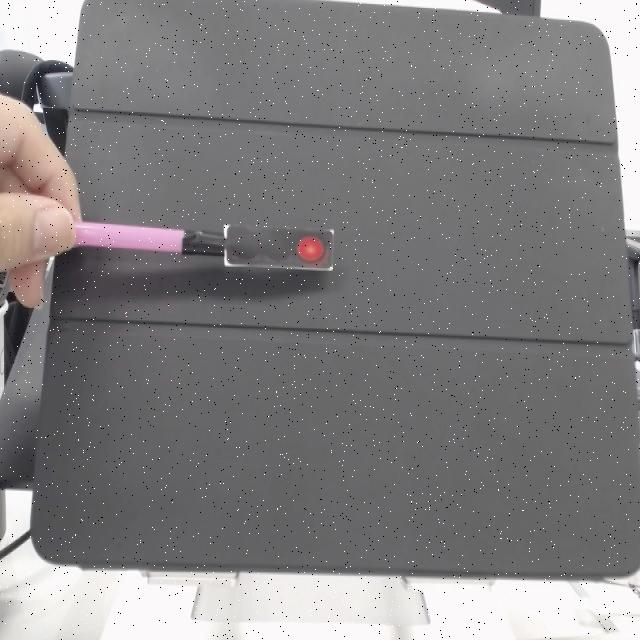traffic light: (214, 225, 334, 271)
